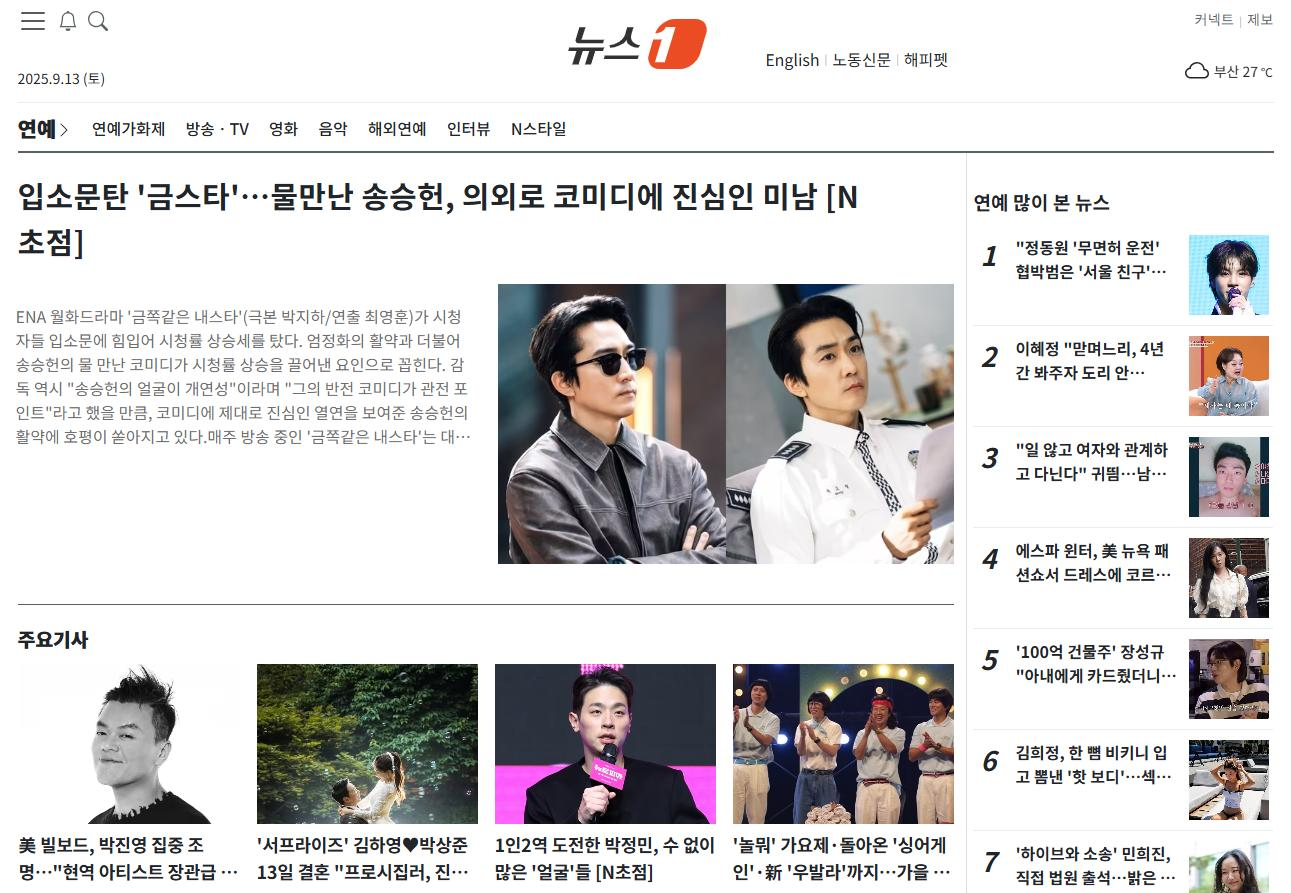button: (80, 111, 172, 151), (509, 110, 604, 141), (359, 113, 434, 146), (1181, 0, 1243, 31), (186, 112, 250, 140), (308, 119, 364, 151), (443, 109, 491, 145), (0, 0, 42, 38), (760, 48, 819, 74), (901, 46, 955, 71), (832, 46, 895, 66), (91, 1, 120, 35), (263, 123, 306, 145), (59, 0, 80, 35), (1254, 9, 1276, 28)
